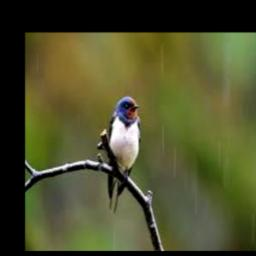Swallow: (107, 96, 142, 213)
